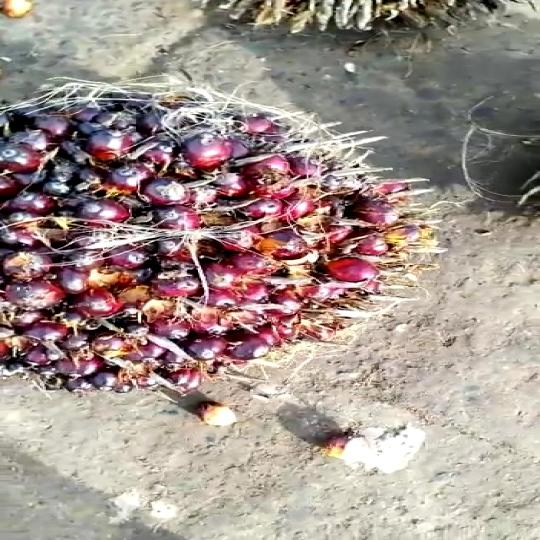masak: (0, 69, 442, 399)
